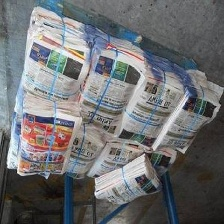news_paper: (71, 29, 149, 133), (14, 4, 94, 105), (109, 50, 189, 149), (152, 65, 223, 159), (15, 91, 80, 179), (85, 140, 186, 184), (92, 154, 170, 210), (54, 127, 106, 183)
